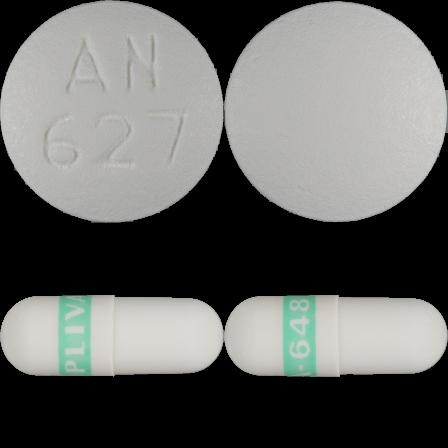75921-627: (0, 0, 224, 224)
